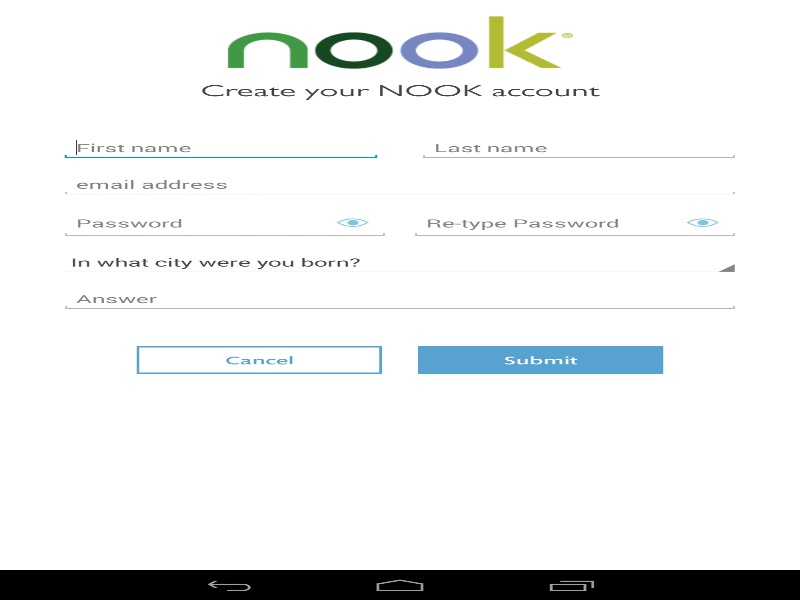Button: (136, 346, 382, 373), (418, 346, 663, 373)
Input: (60, 286, 740, 311), (60, 172, 740, 196), (409, 208, 740, 238), (60, 208, 390, 238), (60, 135, 382, 160), (418, 135, 740, 160)
